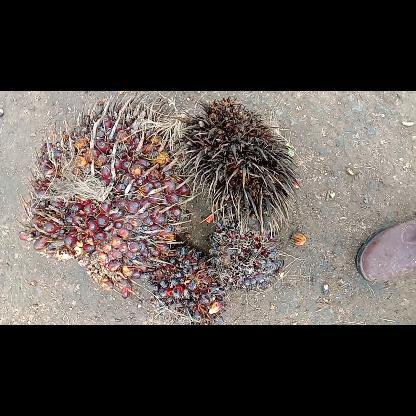Janjang kosong: (167, 91, 302, 235)
TBS abnormal: (146, 238, 228, 324), (206, 211, 286, 293)
TBS masak: (16, 97, 190, 301)
